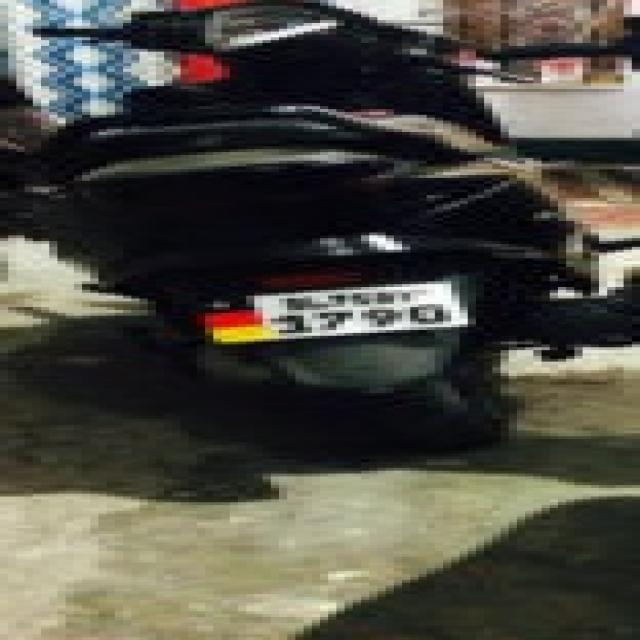license-plate: (188, 276, 468, 342)
